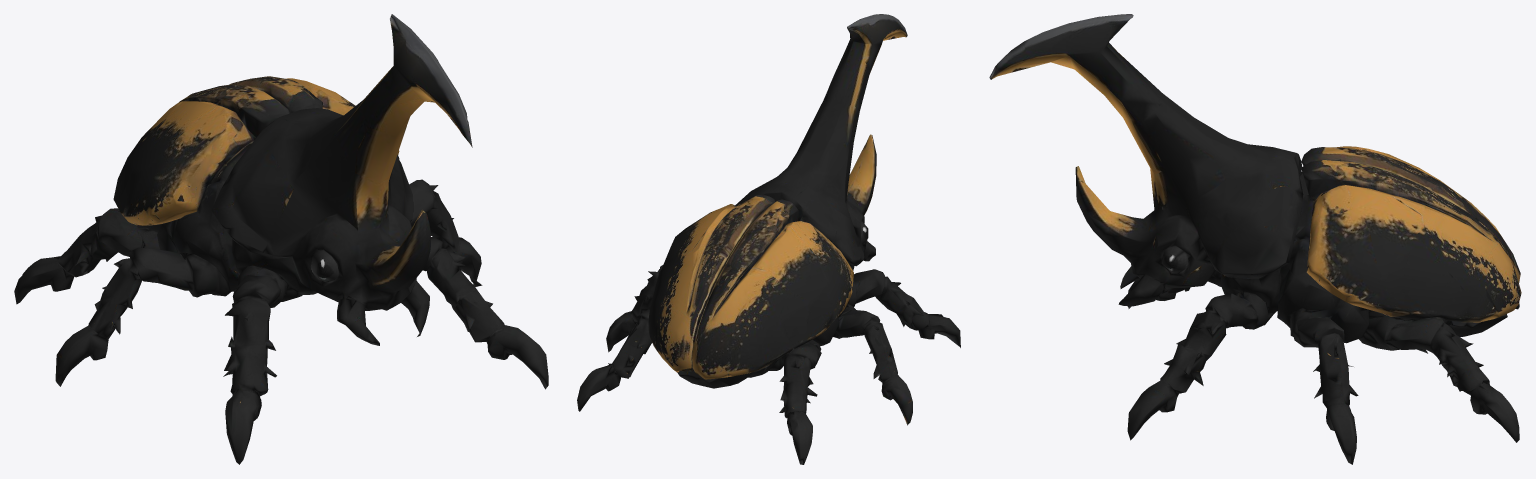
File: boss_herc.glb
The picture shows the model from 3 angles, left to right: view 1: azimuth 30°, elevation 25°; view 2: azimuth 150°, elevation 25°; view 3: azimuth 270°, elevation 25°; orthographic projection. The views are drawn at different scales.
Size of the model in its own units: 1.53 by 1.43 by 1.9.
Materials: 1 (1 with a texture image).
